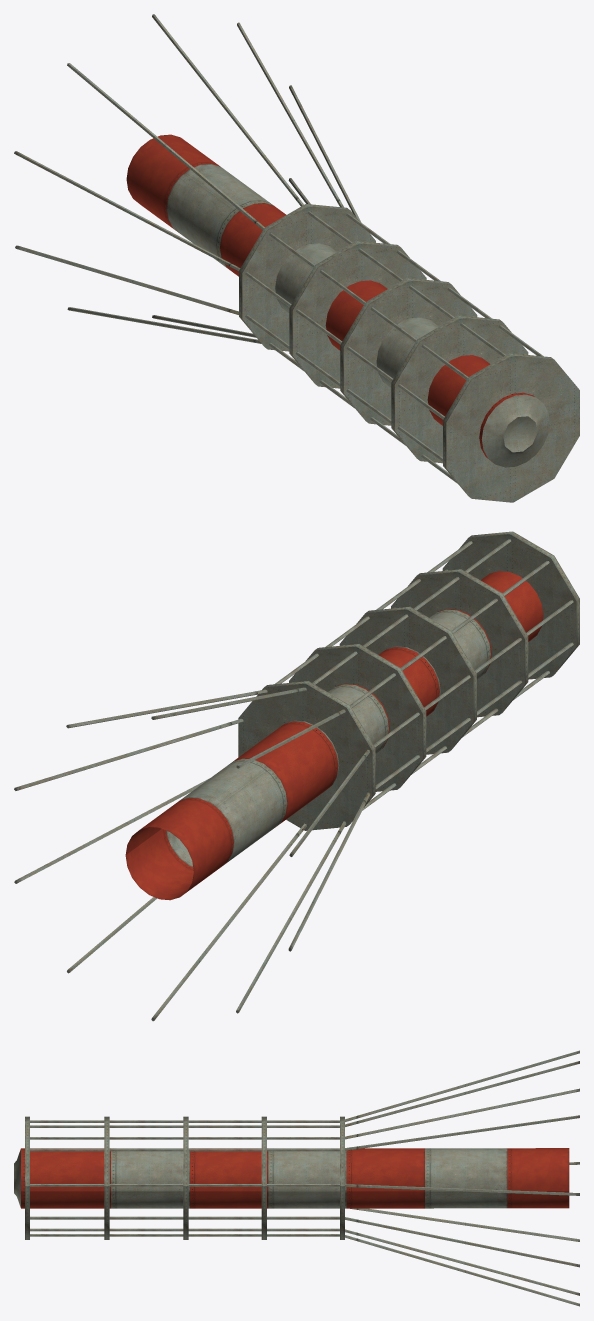
The model's file is heizturm_LOD1.obj.
3 views of the same model, one above another, from view 1: azimuth 30°, elevation 25°; view 2: azimuth 150°, elevation 25°; view 3: azimuth 270°, elevation 25° (orthographic). The views are drawn at different scales.
Parts seen in each view (by area): view 1: MDL_Objec1; view 2: MDL_Objec1; view 3: MDL_Objec1.
Part boxes in pixels (<box>): MDL_Objec1: <box>14,14,579,502</box>; MDL_Objec1: <box>14,531,579,1021</box>; MDL_Objec1: <box>14,1050,579,1306</box>.
Size of the model in its own units: 23.22 by 24.25 by 52.99.
2 materials, 2 textured.
